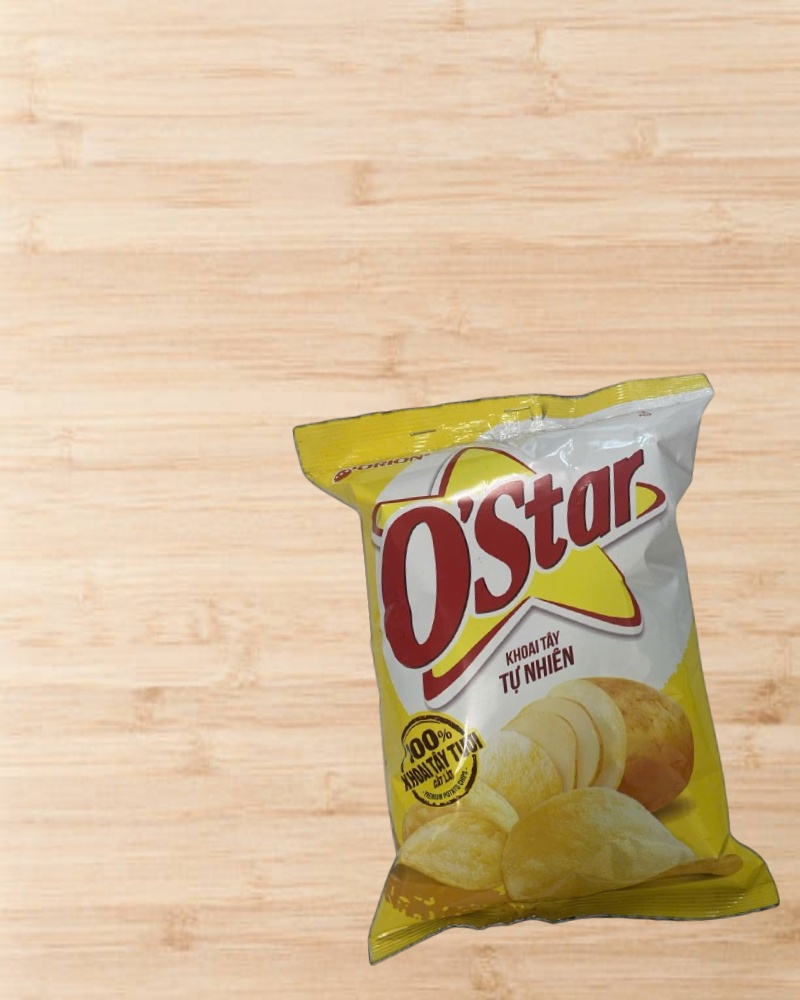O'star: (293, 371, 782, 968)
